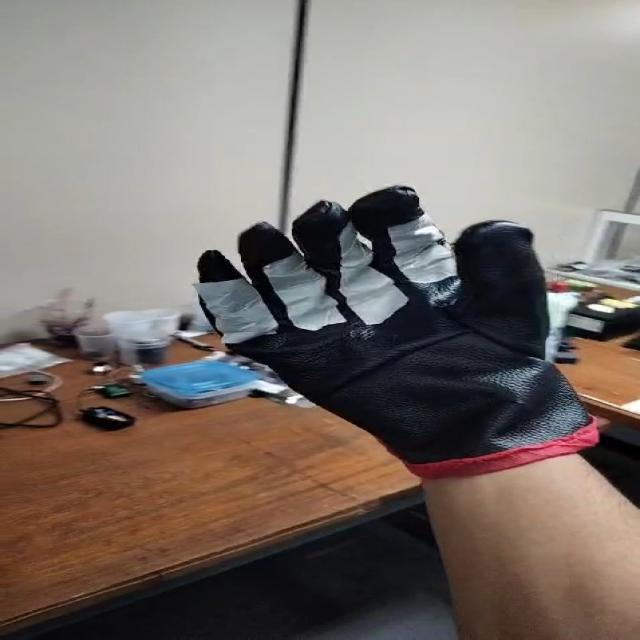Gloves: (204, 183, 613, 467)
